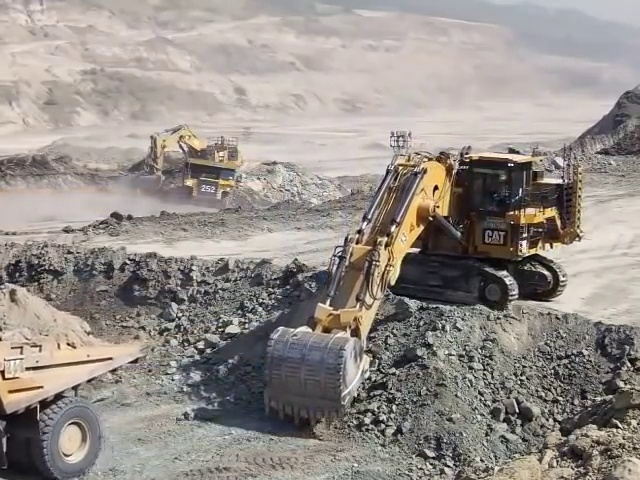dumper: (5, 336, 139, 480), (181, 159, 235, 207)
excavator: (264, 128, 582, 423), (134, 125, 239, 190)
